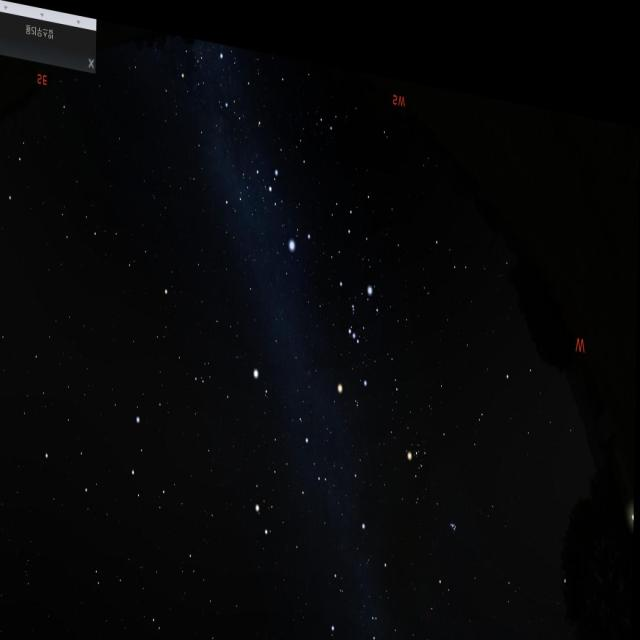canis_major: (259, 133, 319, 249)
canis_minor: (249, 339, 278, 404)
gemini: (250, 402, 340, 561)
leo: (35, 380, 178, 547)
orion: (331, 252, 381, 404)
pleiades: (447, 495, 463, 520)
taurus: (399, 409, 471, 536)
